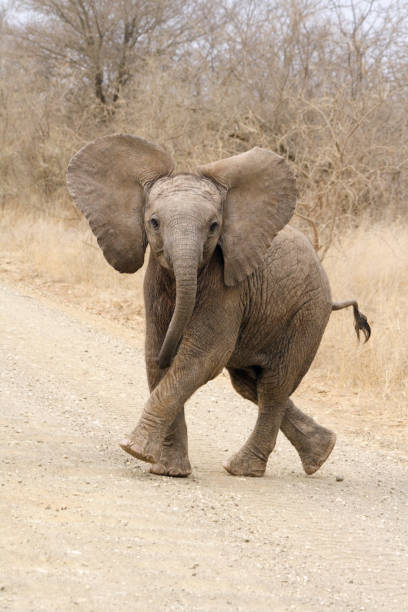elephant: (44, 99, 374, 537)
